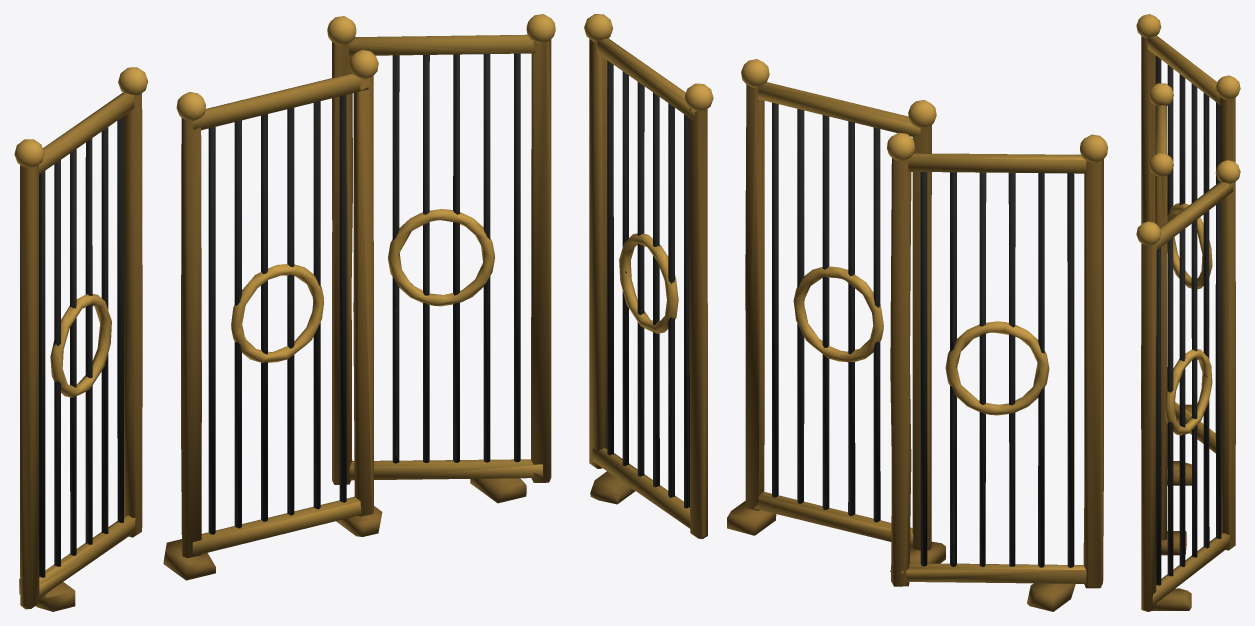
File: ember_spark_guard_lod1.glb
The picture shows the model from 3 angles, left to right: view 1: azimuth 30°, elevation 25°; view 2: azimuth 150°, elevation 25°; view 3: azimuth 270°, elevation 25°; orthographic projection. The views are drawn at different scales.
Visible parts, largest first — view 1: ember_spark_guard.001; view 2: ember_spark_guard.001; view 3: ember_spark_guard.001.
Part boxes in pixels (left/top/right/bottom): ember_spark_guard.001: left=14, top=14, right=555, bottom=611; ember_spark_guard.001: left=584, top=14, right=1107, bottom=611; ember_spark_guard.001: left=1136, top=14, right=1240, bottom=611.
Bounding box in the file's own units: 28.65 × 24.29 × 5.8.
